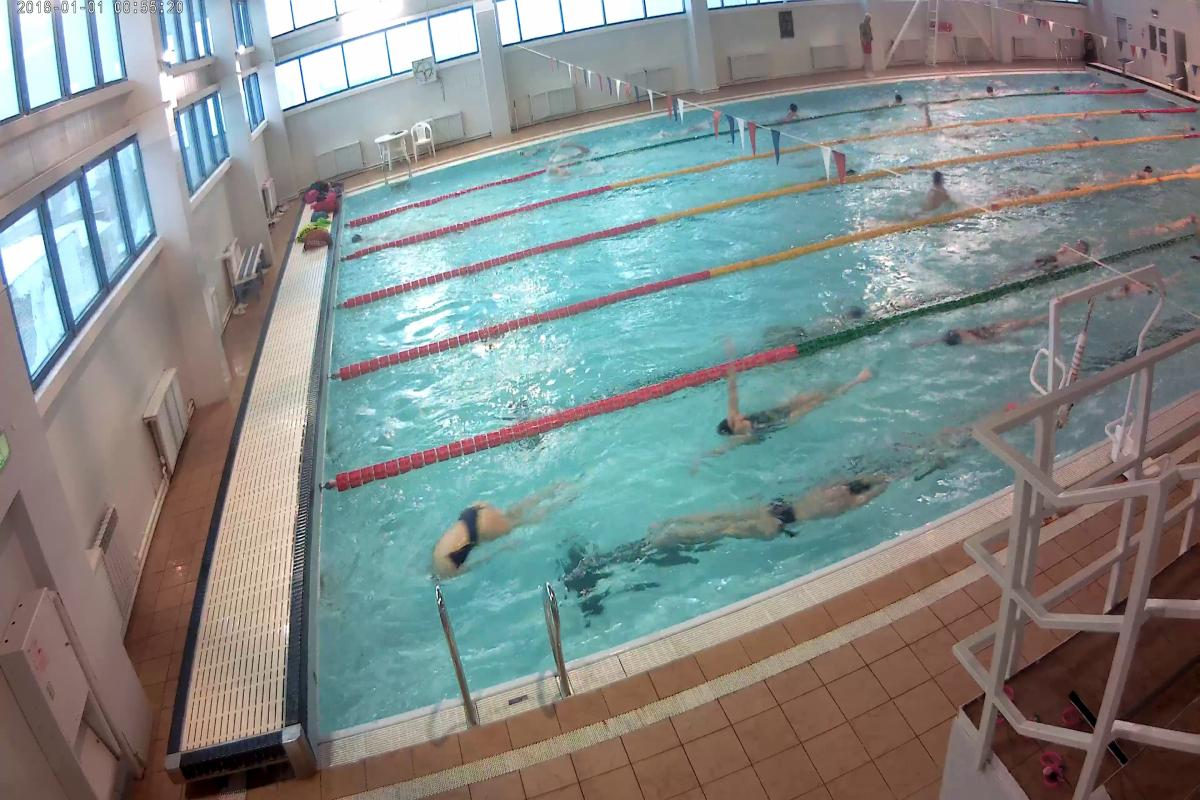swimmer: (704, 369, 878, 463), (417, 476, 571, 579), (679, 471, 883, 545), (917, 314, 1036, 351), (1037, 228, 1091, 269), (1142, 201, 1198, 238), (914, 168, 954, 213), (1126, 156, 1161, 180)
